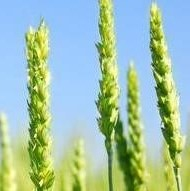Healthy Wheat: (144, 7, 190, 153)
